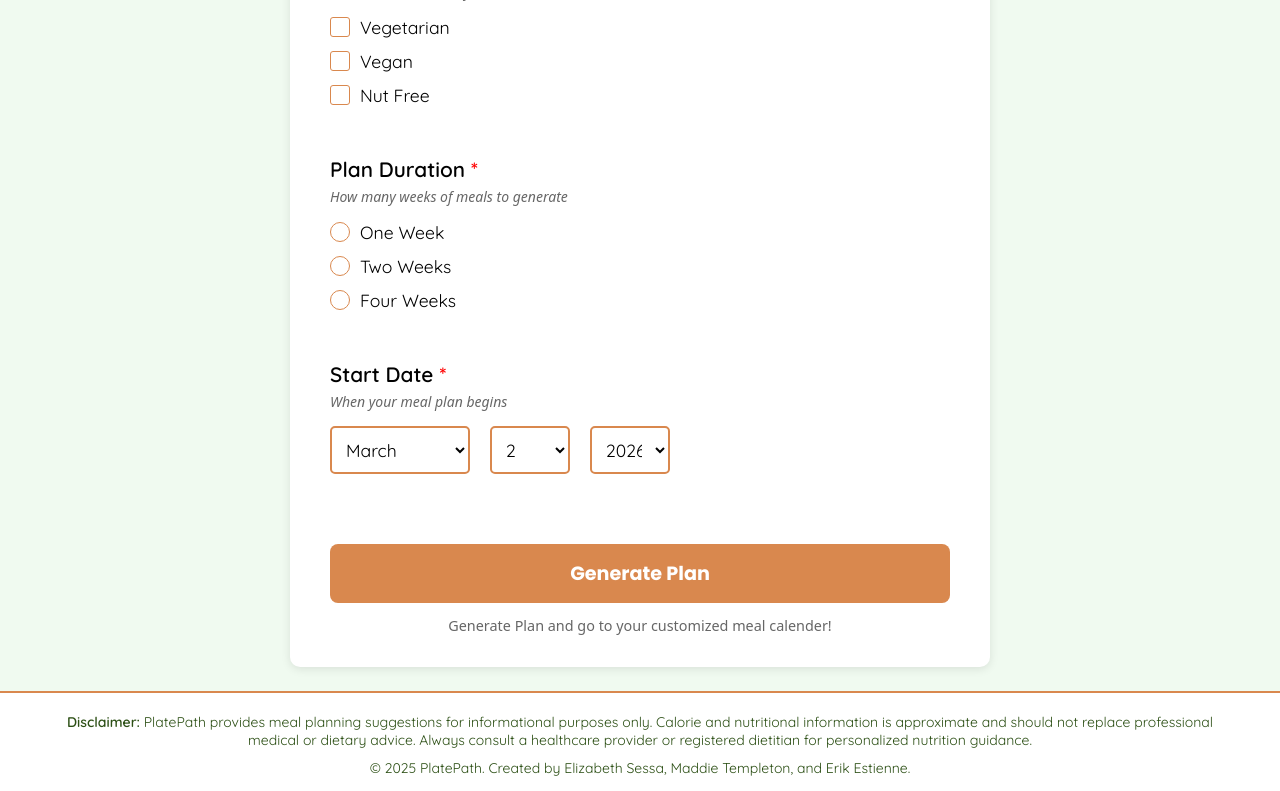
GeneratePlan - Accessibility Tests › Error Messages › should have main error message with role="alert" when form is invalid
This screenshot has width=1280, height=791.
(page scrolled)
Click the button with aria-label "generate meal plan". click: point(640, 574)
box: [330,544,950,603]
(page scrolled)
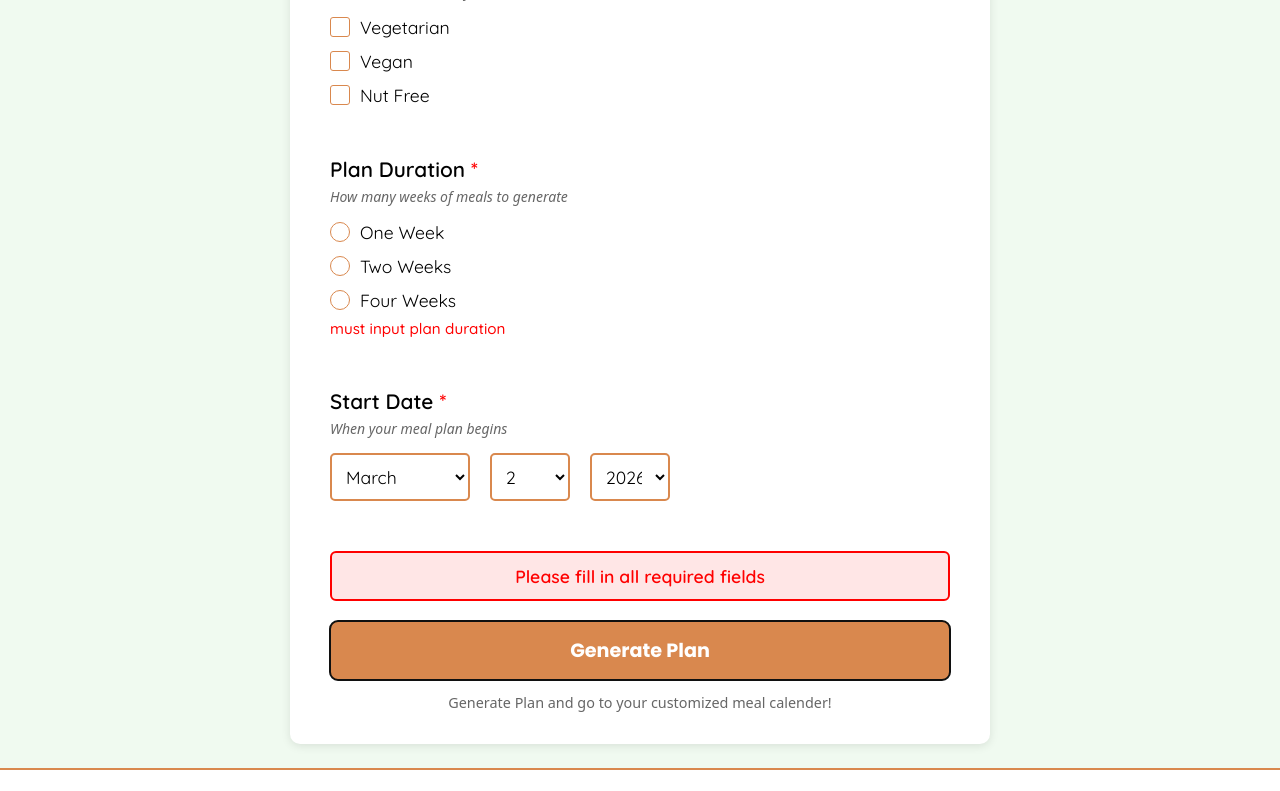
Result: the message "Please fill in all required fields" is shown at [330,551,950,601]
Result: the message reads "Please fill in all required fields" at [515,565,765,587]
